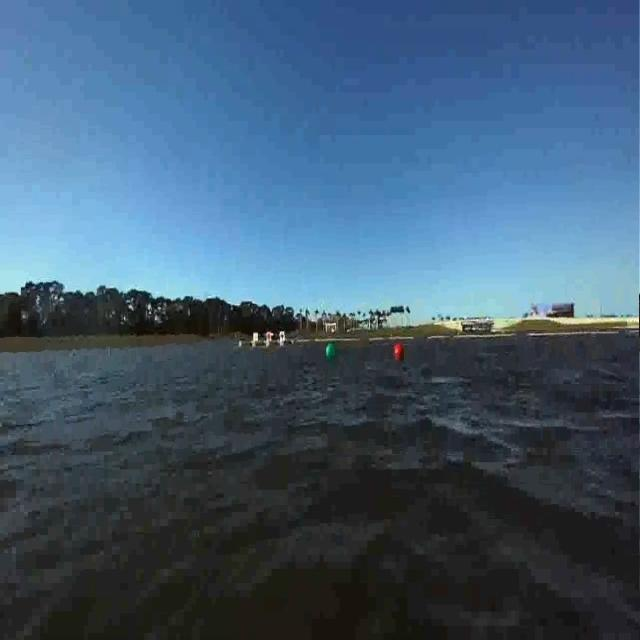green-buoy: (325, 344, 336, 361)
red-buoy: (394, 343, 403, 360)
